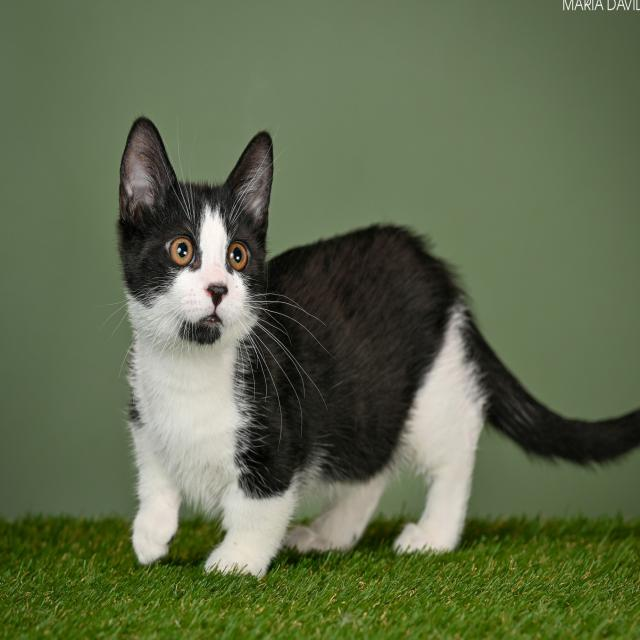Munchkin: (111, 111, 640, 588)
